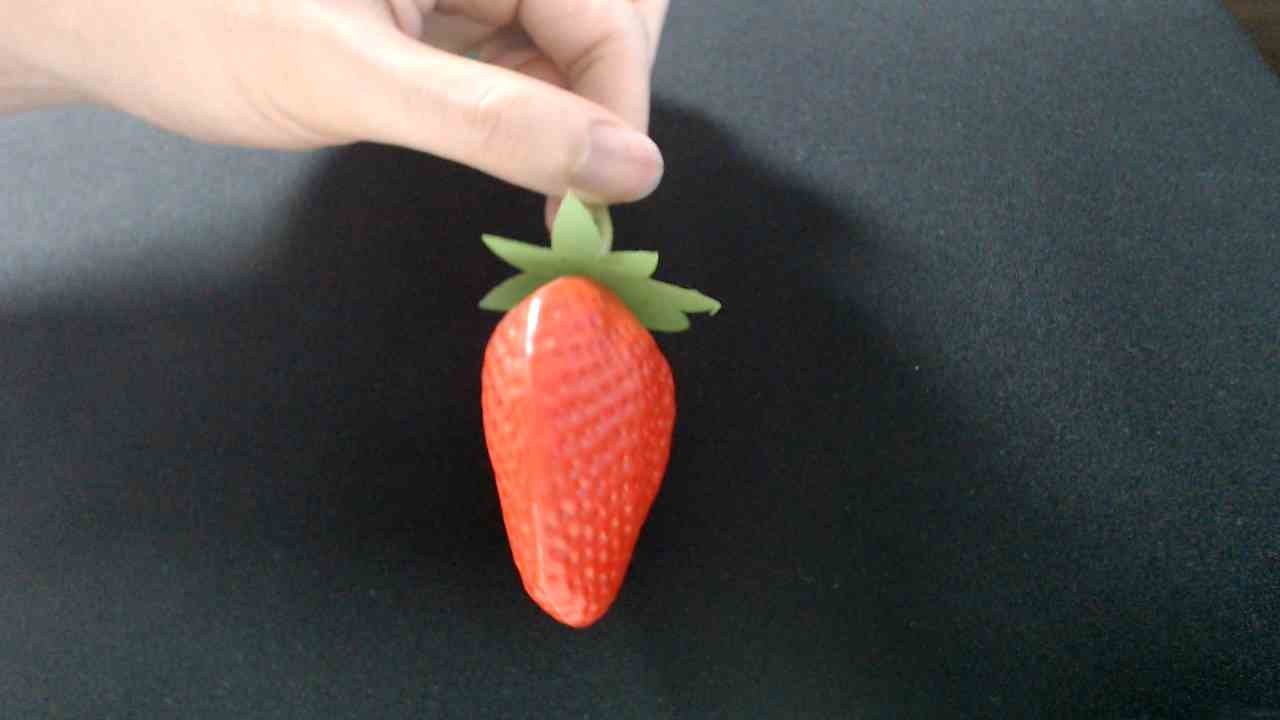strawberry: (469, 250, 697, 639)
